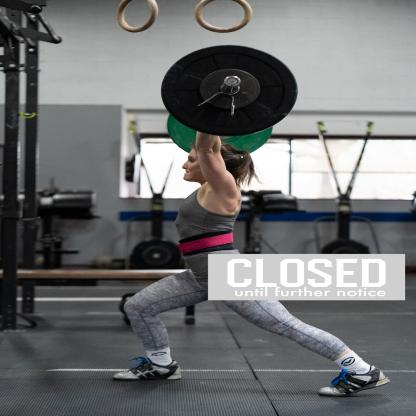Barbell: (155, 42, 305, 140)
